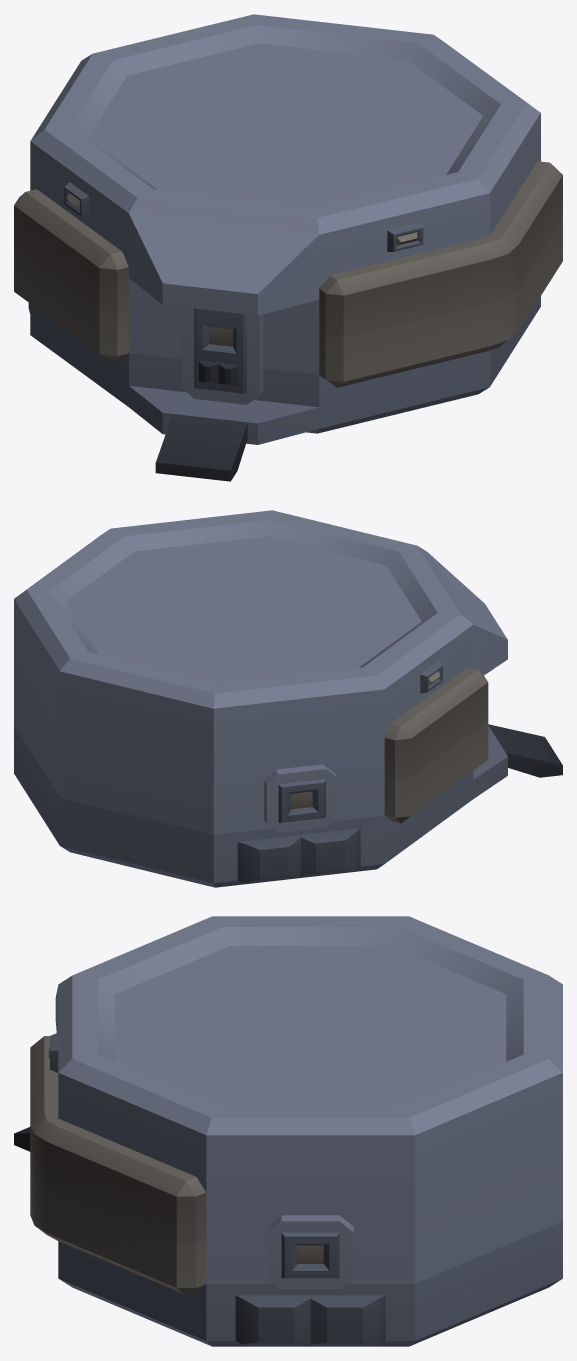
File: basemodule_A.glb
3 renders of one model, top to bottom at view 1: azimuth 30°, elevation 25°; view 2: azimuth 150°, elevation 25°; view 3: azimuth 270°, elevation 25°, orthographic. The views are drawn at different scales.
Parts seen in each view (by area): view 1: basemodule_A; view 2: basemodule_A; view 3: basemodule_A.
Part boxes in pixels (bbox=[...]): basemodule_A: bbox=[14, 14, 562, 481]; basemodule_A: bbox=[14, 510, 562, 887]; basemodule_A: bbox=[14, 916, 562, 1346].
Size of the model in its own units: 2.25 by 1 by 2.18.
1 material, 1 textured.
